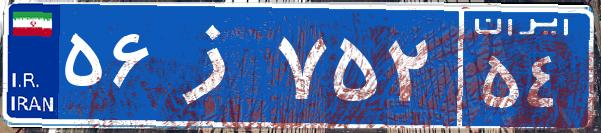2: (385, 28, 445, 110)
4: (525, 38, 570, 115)
5: (330, 28, 385, 110), (57, 26, 110, 107), (475, 38, 525, 113)
6: (110, 28, 158, 105)
7: (273, 28, 330, 110)
ز: (158, 15, 273, 115)
